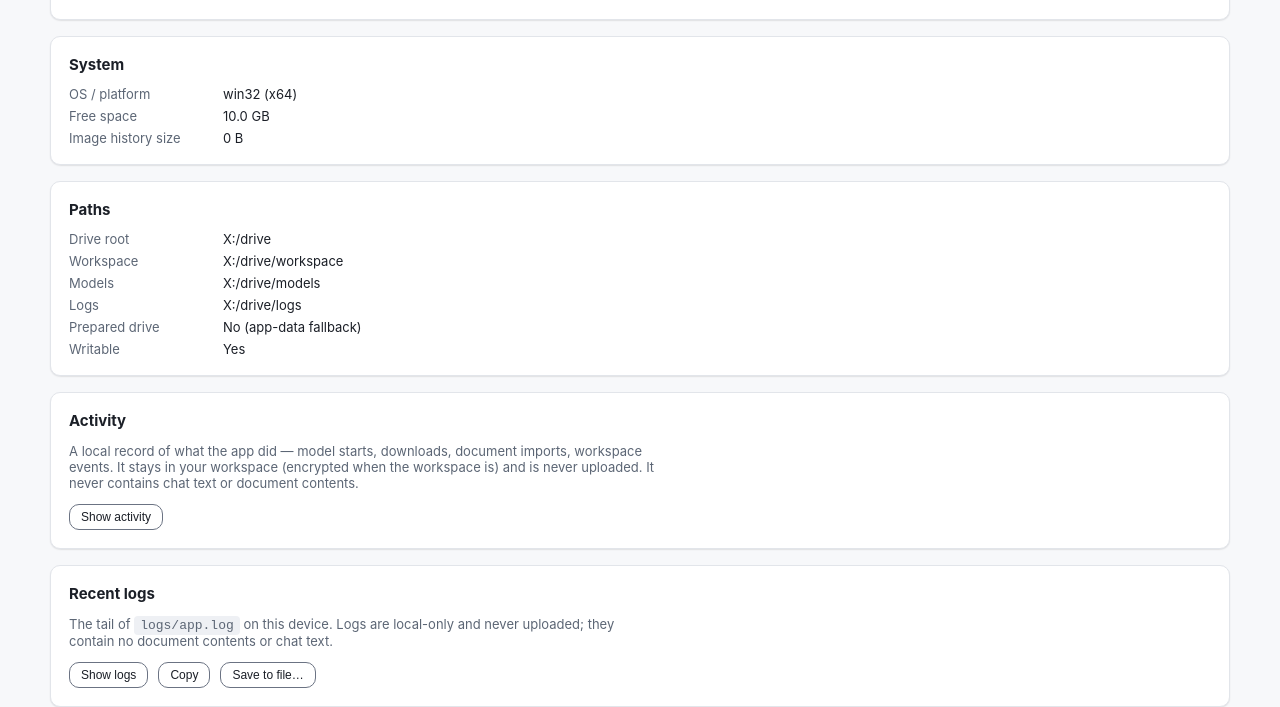
Settings → Diagnostics (advanced) — copy & save logs › saves the full log to a user-chosen file and confirms with a toast
(page scrolled)
Click the button "Save to file…" at (268, 675), box x1=220 y1=662 x2=316 y2=688
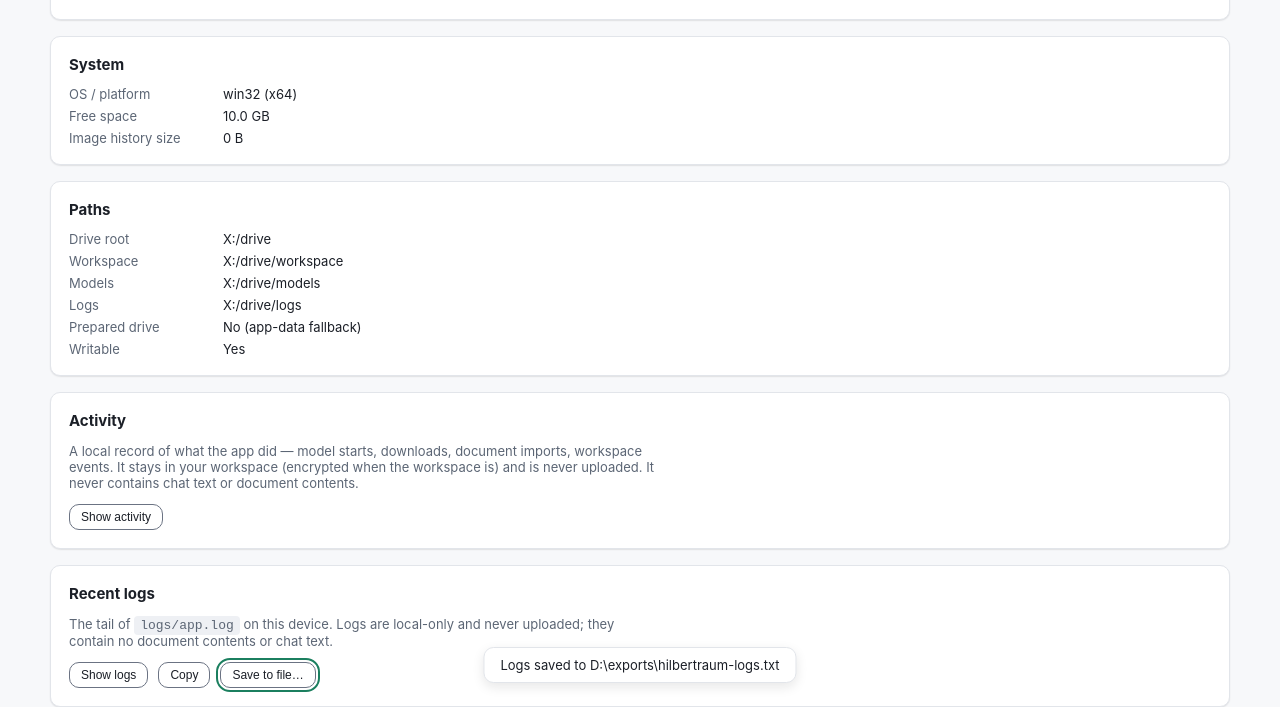
Now the text "Logs saved to D:\\exports\\hilbertraum-logs.txt" is shown, box x1=484 y1=647 x2=797 y2=683
